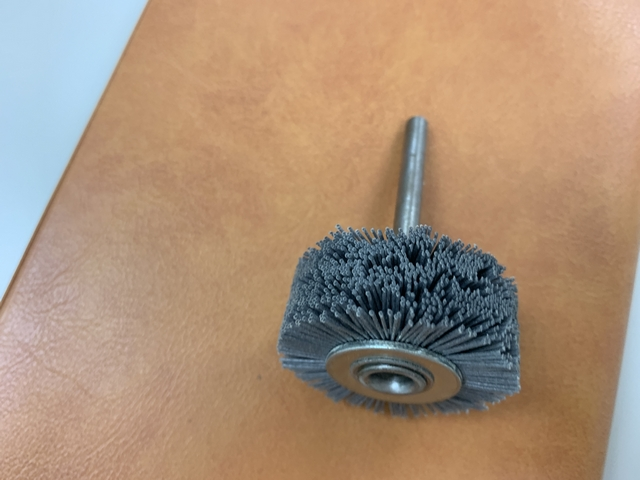Wheel Brush: (193, 84, 554, 438), (295, 107, 527, 422), (268, 220, 534, 434)
